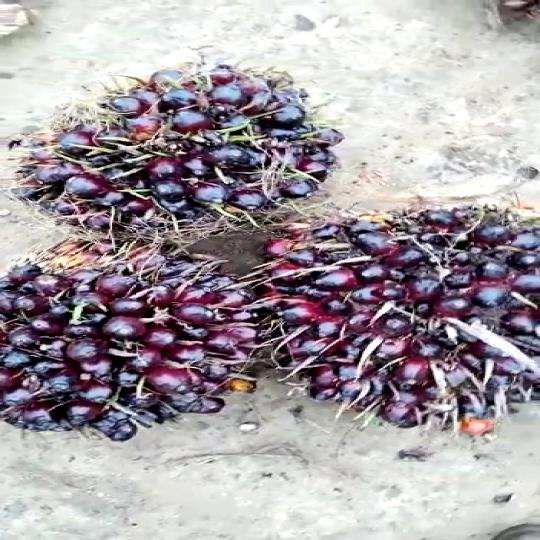mentah: (262, 186, 540, 444), (1, 59, 352, 246), (0, 237, 276, 439)
